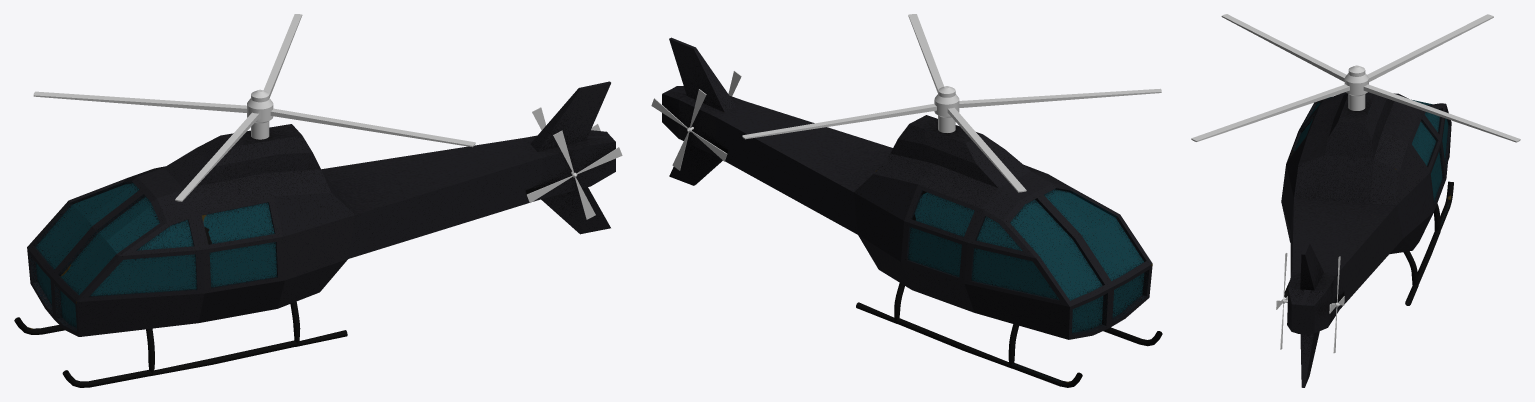
The model's file is anim_000185.obj.
3 renders of one model, left to right at view 1: azimuth 30°, elevation 25°; view 2: azimuth 150°, elevation 25°; view 3: azimuth 270°, elevation 25°, orthographic. The views are drawn at different scales.
Visible parts, largest first — view 1: Helicopter.007_Cylinder.008, Helicopter.001_Cylinder.001, Helicopter.003_Cylinder.004; view 2: Helicopter.007_Cylinder.008, Helicopter.001_Cylinder.001, Helicopter.004_Cylinder.005; view 3: Helicopter.007_Cylinder.008, Helicopter.001_Cylinder.001, Helicopter.004_Cylinder.005.
Part boxes in pixels (x1=…): Helicopter.007_Cylinder.008: x1=14, y1=81, x2=615, y2=387; Helicopter.001_Cylinder.001: x1=33, y1=14, x2=475, y2=201; Helicopter.003_Cylinder.004: x1=527, y1=130, x2=622, y2=219; Helicopter.007_Cylinder.008: x1=662, y1=37, x2=1162, y2=387; Helicopter.001_Cylinder.001: x1=742, y1=14, x2=1161, y2=192; Helicopter.004_Cylinder.005: x1=651, y1=89, x2=727, y2=170; Helicopter.007_Cylinder.008: x1=1281, y1=92, x2=1453, y2=387; Helicopter.001_Cylinder.001: x1=1191, y1=14, x2=1520, y2=142; Helicopter.004_Cylinder.005: x1=1329, y1=256, x2=1344, y2=353.
Bounding box in the file's own units: 7.59 × 3.21 × 4.38.
